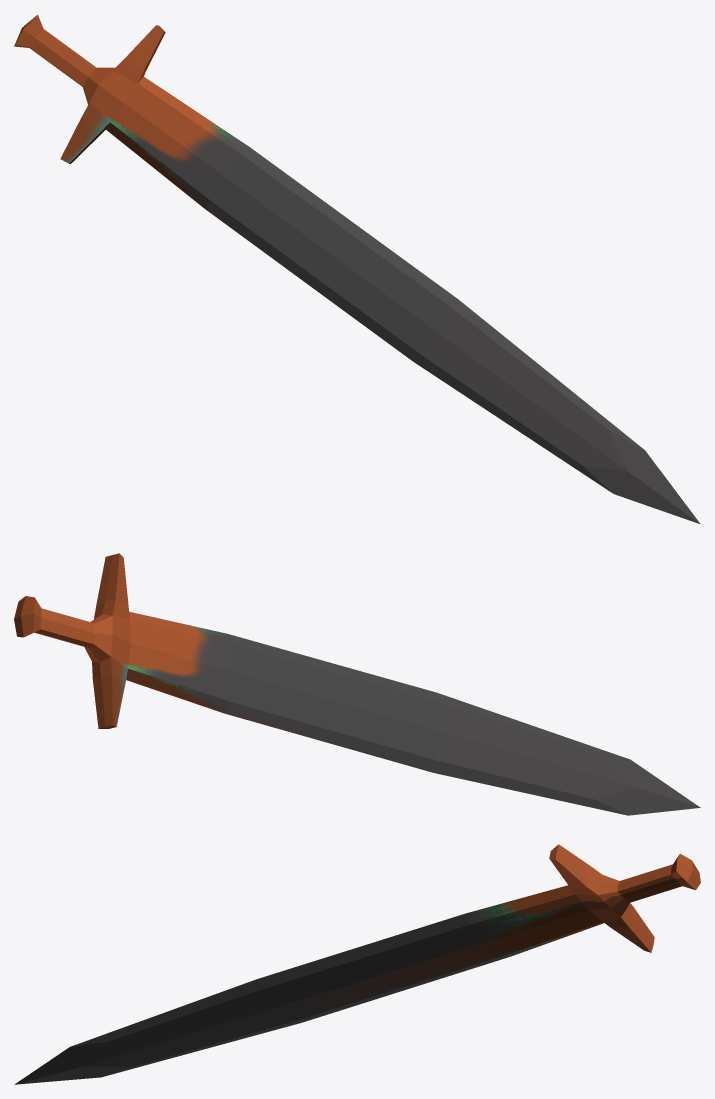
Rendered from Sword.fbx.
3 views of the same model, one above another, from view 1: azimuth 90°, elevation 25°; view 2: azimuth 150°, elevation 25°; view 3: azimuth 270°, elevation 25° (orthographic). The views are drawn at different scales.
Parts seen in each view (by area): view 1: Sword; view 2: Sword; view 3: Sword.
Boxes of the visible parts, box(x1,y1,x2,y2) form: Sword: box(14, 14, 700, 524); Sword: box(14, 553, 700, 815); Sword: box(14, 844, 700, 1084).
Size of the model in its own units: 162 by 191 by 322.
